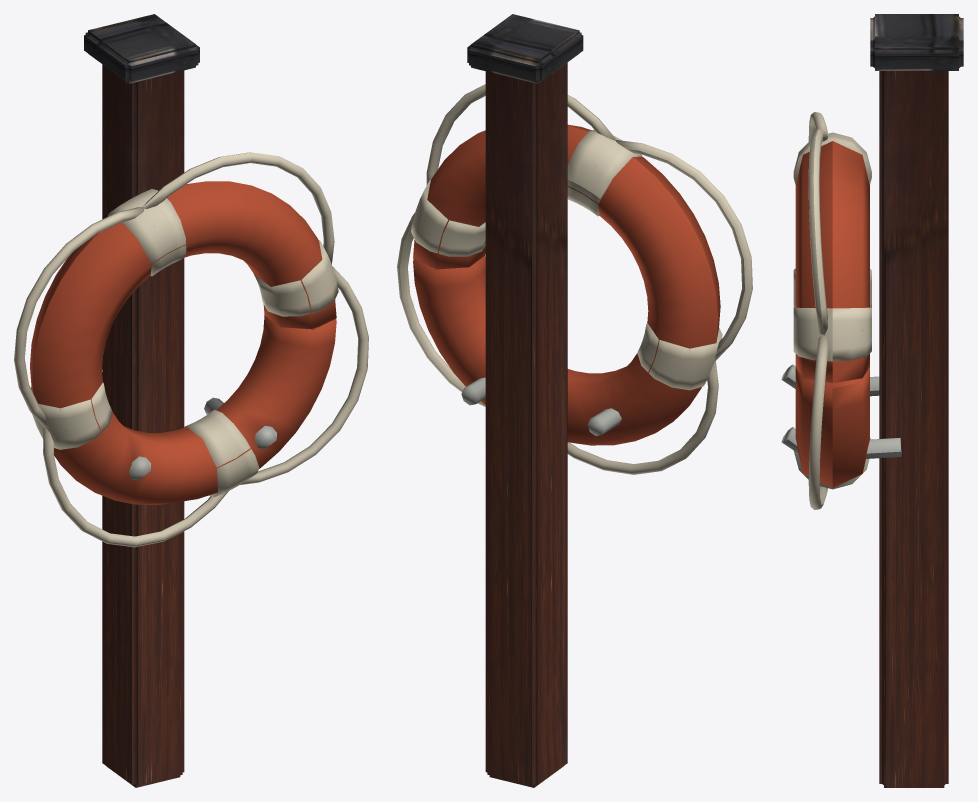
Rendered from life-ring-station.glb.
3 renders of one model, left to right at view 1: azimuth 30°, elevation 25°; view 2: azimuth 150°, elevation 25°; view 3: azimuth 270°, elevation 25°, orthographic.
Visible parts, largest first — view 1: Frame; view 2: Frame; view 3: Frame.
Part boxes in pixels (x1,y1,x2,y2): Frame: (14,14,368,787); Frame: (397,14,752,787); Frame: (781,14,963,787).
Size of the model in its own units: 0.73 by 1.45 by 0.3203.
5 materials, 2 textured.
